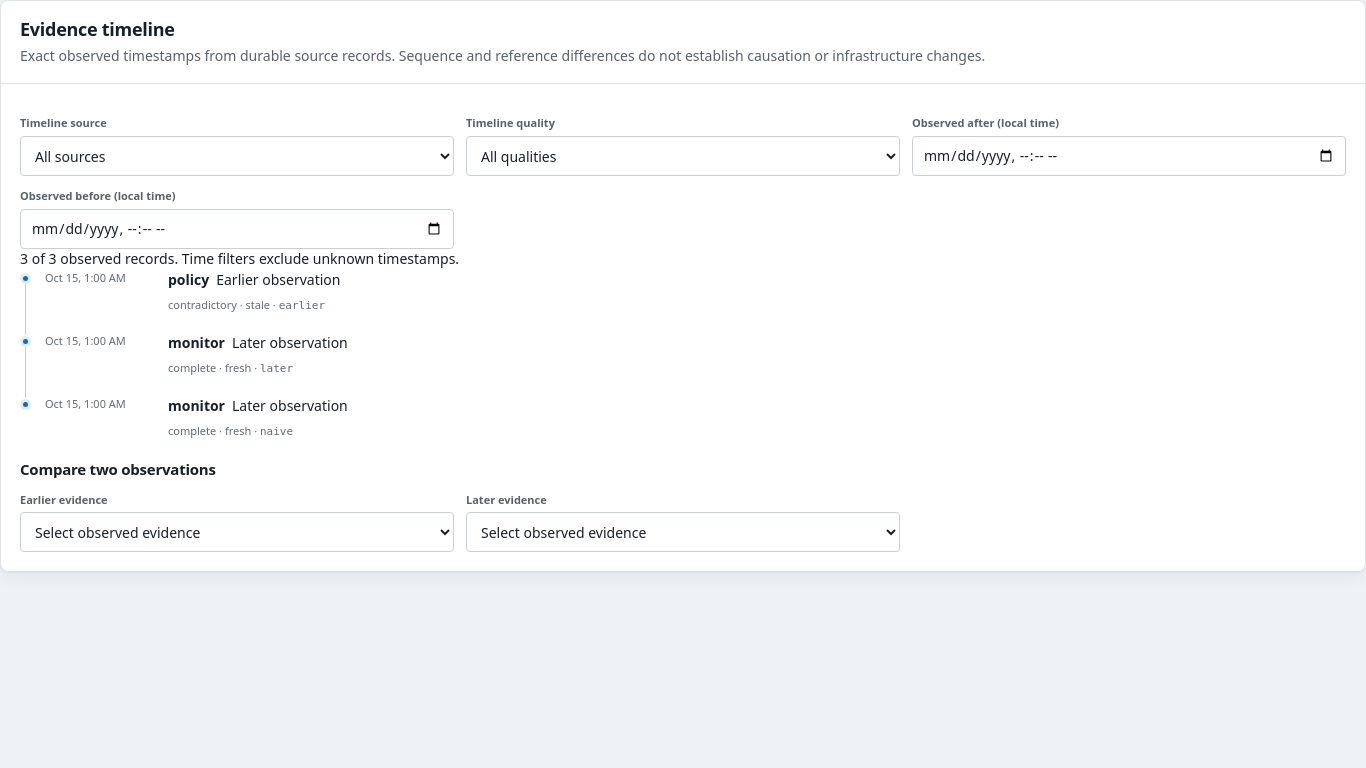
Test: observed Situation timeline › does not infer ordering from equivalent timestamps or timezone-less source observations
Select "policy · Oct 15, 1:00 AM · earlier" in the dropdown labelled "Earlier evidence": {"x": 237, "y": 532} [20,512,454,552]
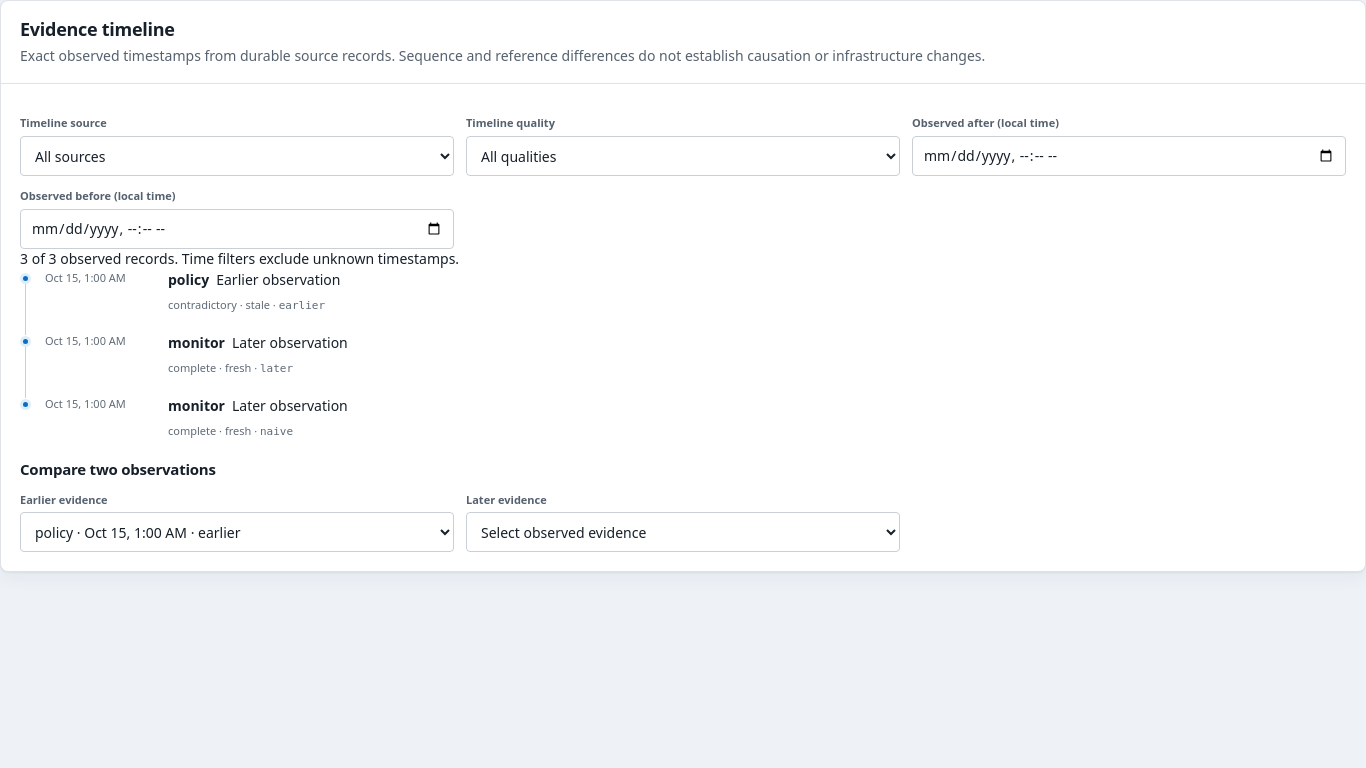
Select "monitor · Oct 15, 1:00 AM · later" in the dropdown labelled "Later evidence": {"x": 683, "y": 532} [466,512,900,552]
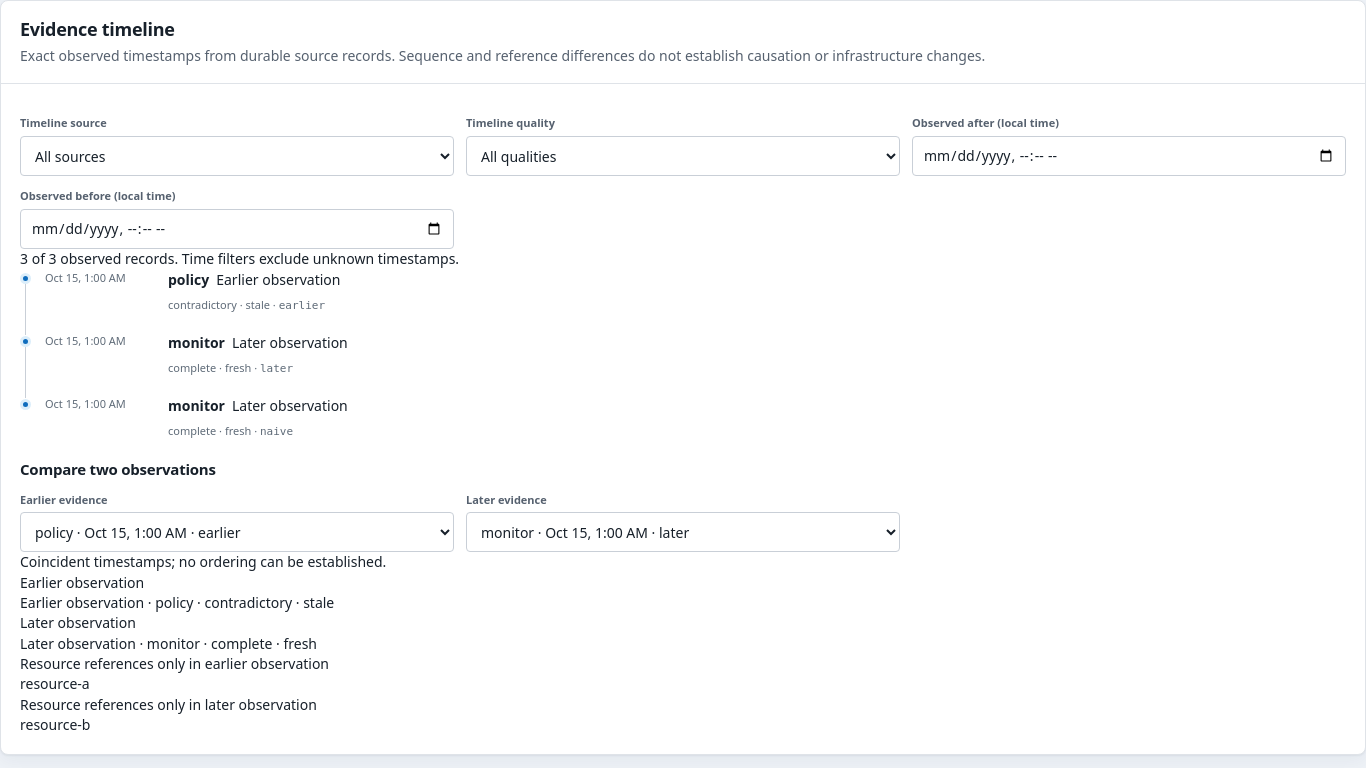
Now the text "Coincident timestamps; no ordering can be established." is shown, box [20,552,386,572]
Select "monitor · Oct 15, 1:00 AM · naive" in the dropdown labelled "Later evidence": {"x": 683, "y": 532} [466,512,900,552]
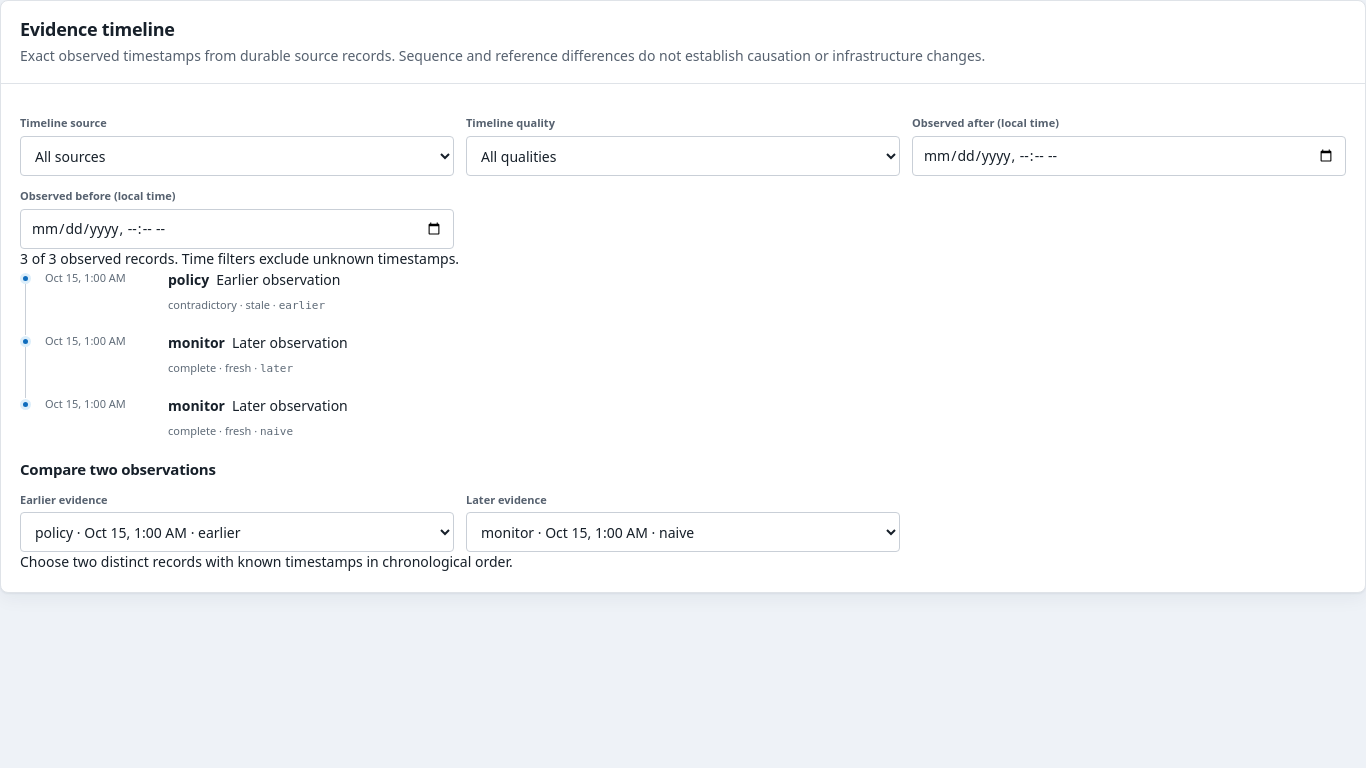
Now the message shows "known timestamps", box [20,552,513,572]
